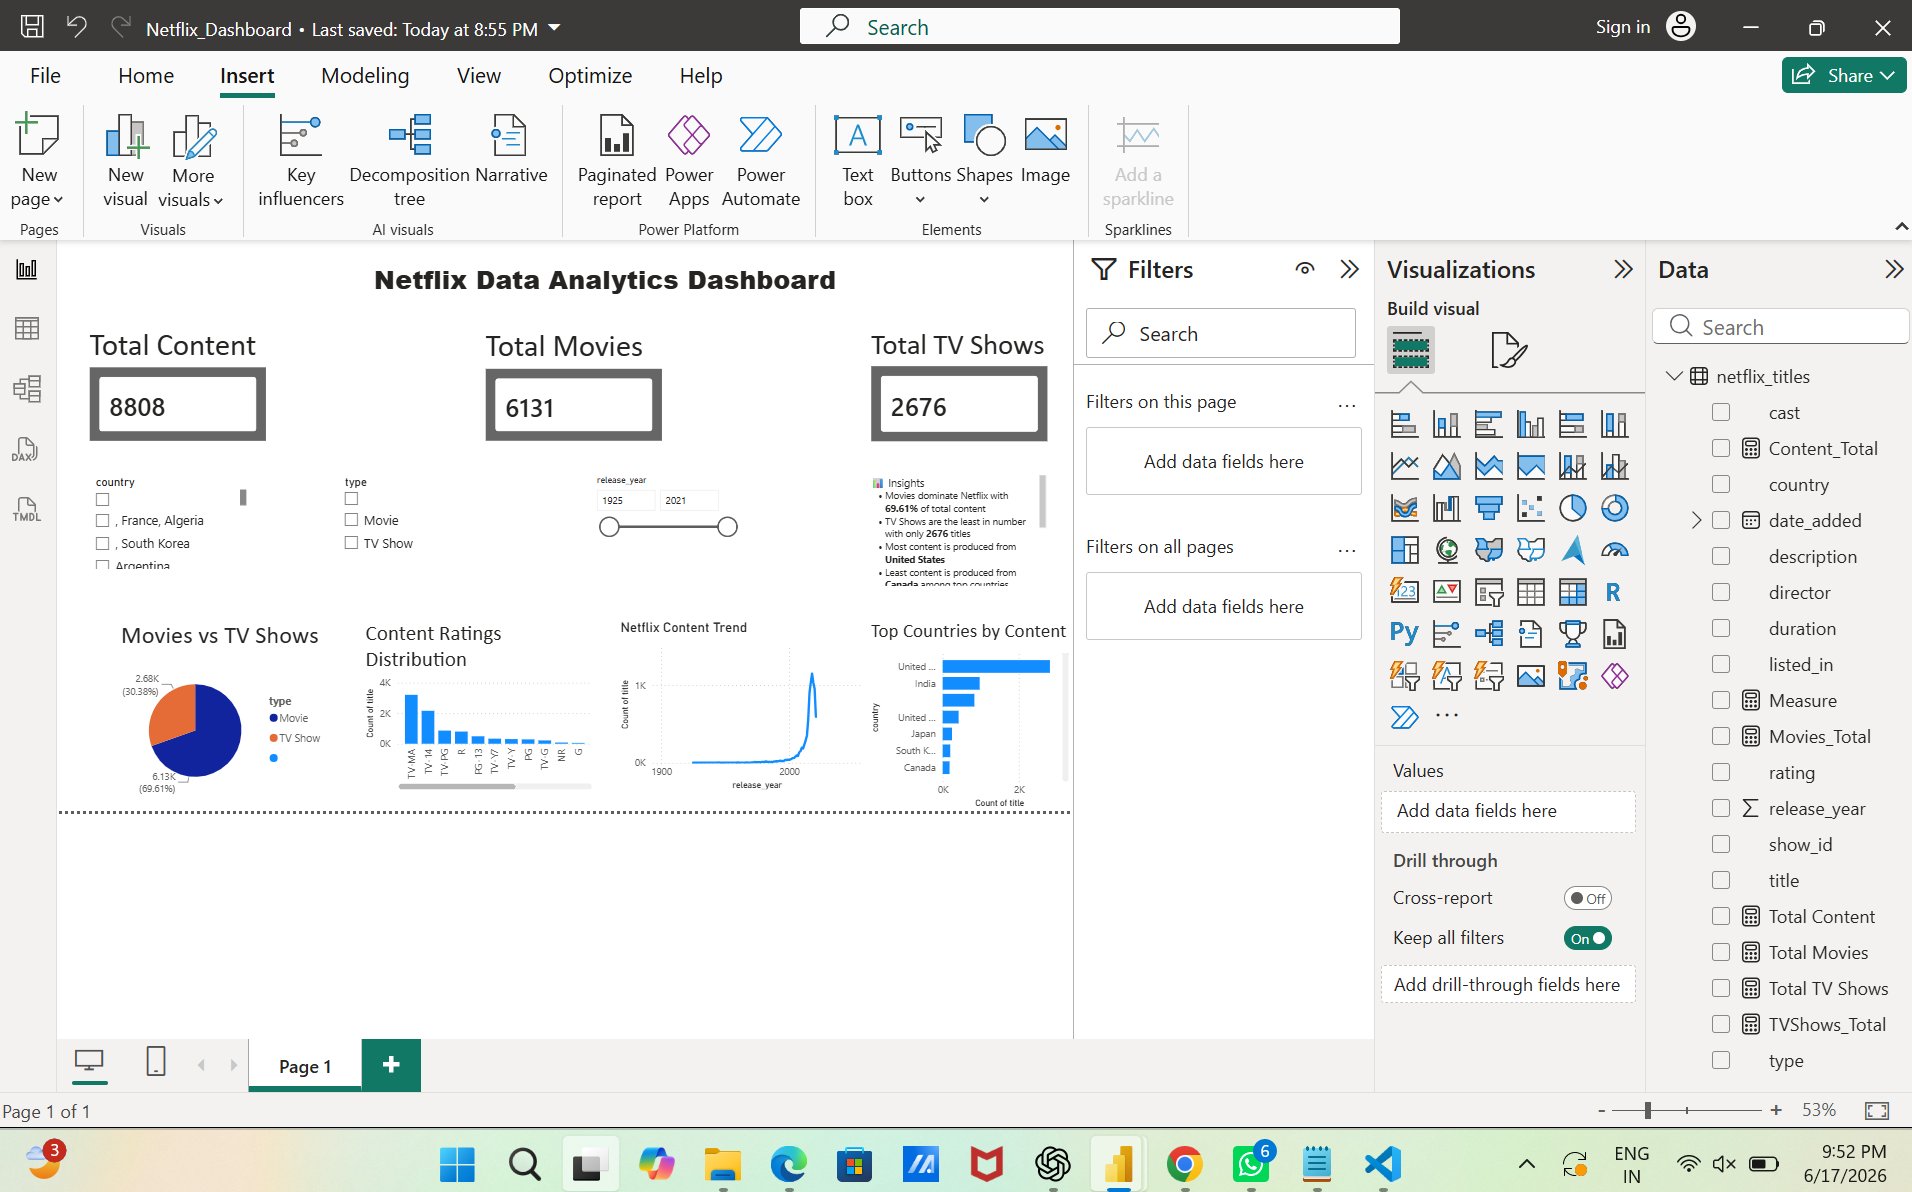

The dashboard page shown, as its layout file describes it:
{"tool":"powerbi","page":{"name":"Page 1","canvas":[1280,720],"ordinal":0},"visuals":[{"type":"pieChart","title":"Movies vs TV Shows","fields":{"Category":["netflix_titles.type"],"Y":["CountNonNull(netflix_titles.title)"]},"box":[75.6,478.1,270.2,241.9],"z":0},{"type":"clusteredBarChart","title":"Top Countries by Content","fields":{"Category":["netflix_titles.country"],"Y":["CountNonNull(netflix_titles.title)"]},"box":[1020.5,478.1,258.9,241.9],"z":1000},{"type":"lineChart","title":"Netflix Content Trend","fields":{"Category":["netflix_titles.release_year"],"Y":["CountNonNull(netflix_titles.title)"]},"box":[704.9,478.1,315.6,219.2],"z":2000},{"type":"slicer","fields":{"Values":["netflix_titles.type"]},"box":[349.6,291,291,149.3],"z":3000},{"type":"textbox","box":[0,20.8,1251,86.9],"z":4000},{"type":"clusteredColumnChart","title":"Content Ratings Distribution","fields":{"Category":["netflix_titles.rating"],"Y":["CountNonNull(netflix_titles.title)"]},"box":[383.6,478.1,294.8,219.2],"z":6000},{"type":"cardVisual","title":"Total TV Shows","fields":{"Data":["netflix_titles.TVShows_Total"]},"box":[1020.5,109.6,232.4,149.3],"z":7000},{"type":"cardVisual","title":"Total Content","fields":{"Data":["netflix_titles.Content_Total"]},"box":[35.9,107.7,232.4,151.2],"z":8000},{"type":"cardVisual","title":"Total Movies","fields":{"Data":["netflix_titles.Movies_Total"]},"box":[534.8,109.6,232.4,149.3],"z":9000},{"type":"slicer","fields":{"Values":["netflix_titles.country"]},"box":[35.9,291,207.9,128.5],"z":10000},{"type":"slicer","fields":{"Values":["netflix_titles.release_year"]},"box":[667.1,291,198.4,145.5],"z":11000},{"type":"textbox","box":[1020.5,291,230.6,149.3],"z":11001}]}

Visuals, with their boxes on the page's 1280x720 design canvas (x1, y1, x2, y2). These are canvas units, not pixel positions in the 1912x1192 screenshot, which may show the page scaled, cropped or inside an application window:
"Movies vs TV Shows" pieChart: bbox(76, 478, 346, 720)
"Top Countries by Content" clusteredBarChart: bbox(1020, 478, 1279, 720)
"Netflix Content Trend" lineChart: bbox(705, 478, 1020, 697)
slicer - netflix_titles.type: bbox(350, 291, 641, 440)
textbox: bbox(0, 21, 1251, 108)
"Content Ratings Distribution" clusteredColumnChart: bbox(384, 478, 678, 697)
"Total TV Shows" cardVisual: bbox(1020, 110, 1253, 259)
"Total Content" cardVisual: bbox(36, 108, 268, 259)
"Total Movies" cardVisual: bbox(535, 110, 767, 259)
slicer - netflix_titles.country: bbox(36, 291, 244, 420)
slicer - netflix_titles.release_year: bbox(667, 291, 866, 436)
textbox: bbox(1020, 291, 1251, 440)
